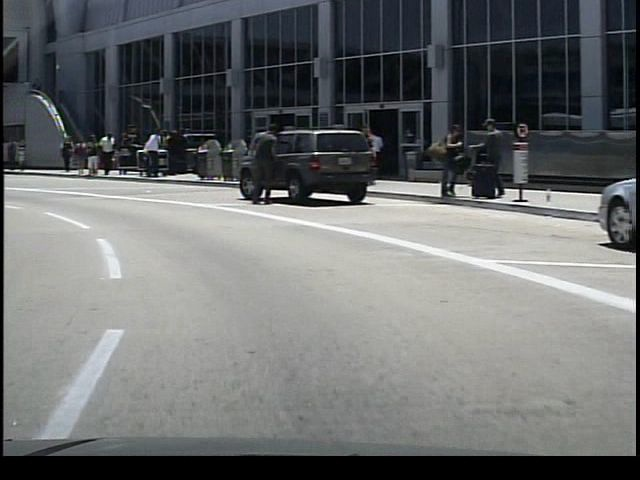person: (460, 114, 503, 199), (426, 117, 460, 202), (247, 115, 276, 209), (360, 123, 385, 186), (137, 125, 161, 180), (94, 129, 116, 179), (79, 132, 98, 181), (54, 133, 73, 176)
